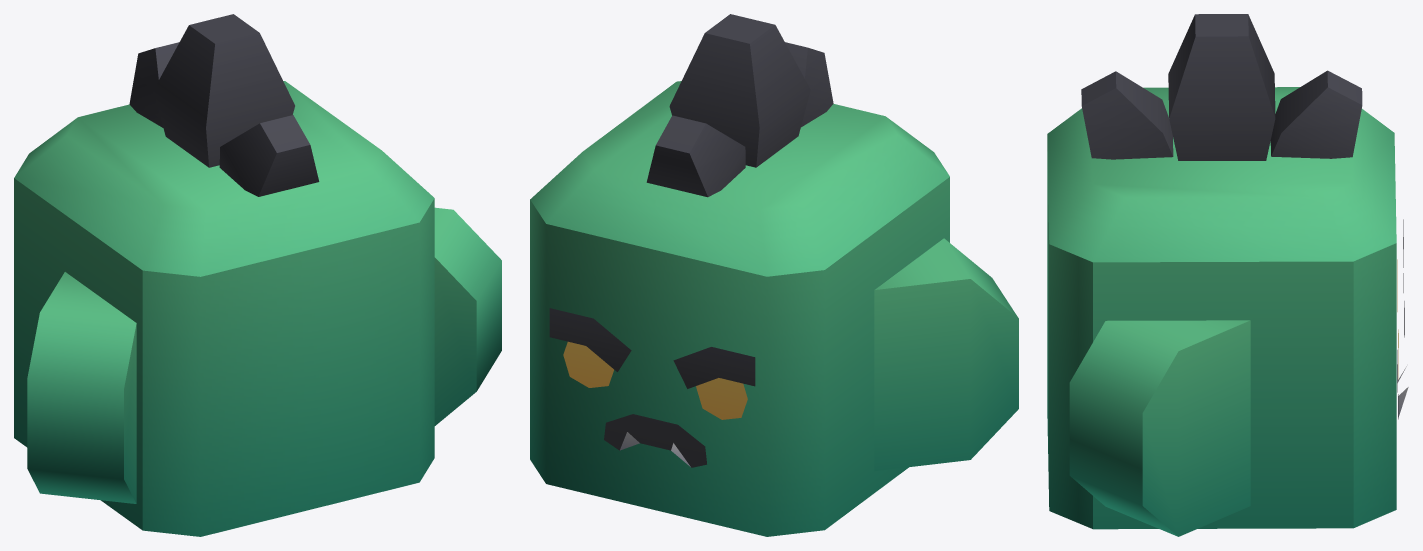
File: head-mesh.005_lev5.glb
3 views of the same model, side by side, from view 1: azimuth 30°, elevation 25°; view 2: azimuth 150°, elevation 25°; view 3: azimuth 270°, elevation 25° (orthographic). The views are drawn at different scales.
Parts seen in each view (by area): view 1: head-mesh.005_lev5; view 2: head-mesh.005_lev5; view 3: head-mesh.005_lev5.
Part boxes in pixels (left/top/right/bottom): head-mesh.005_lev5: left=14, top=14, right=501, bottom=536; head-mesh.005_lev5: left=530, top=14, right=1018, bottom=536; head-mesh.005_lev5: left=1047, top=14, right=1408, bottom=536.
Size of the model in its own units: 2.08 by 1.75 by 1.33.
1 material, 1 textured.
